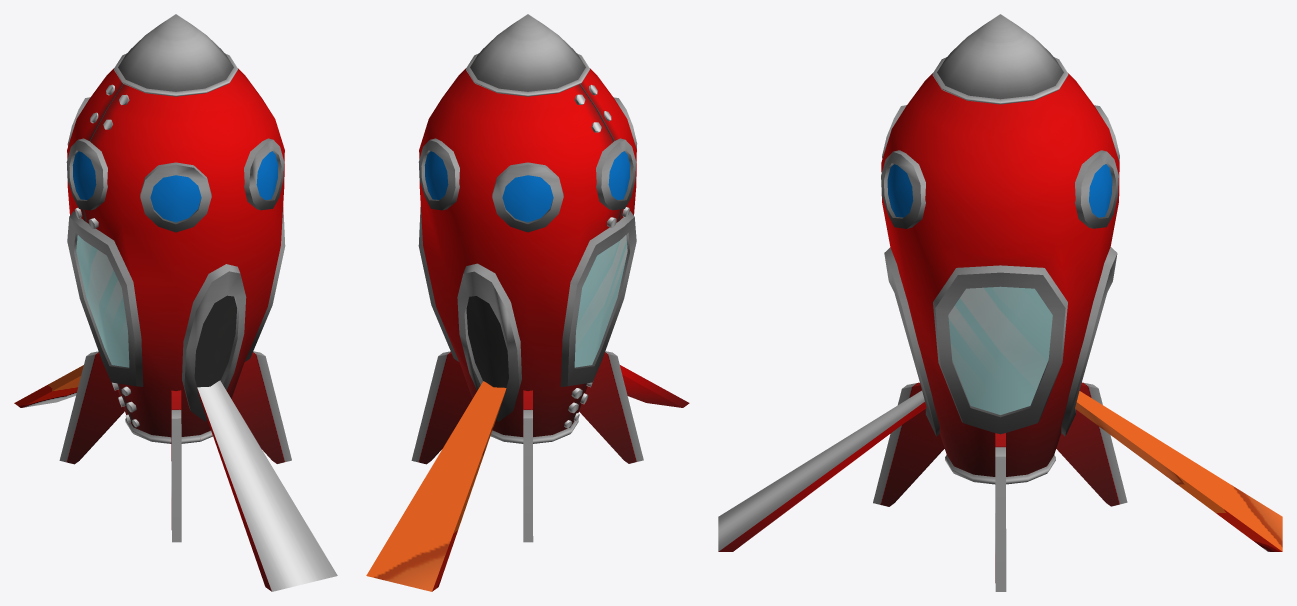
Rendered from RocketPass.FBX.
3 renders of one model, left to right at view 1: azimuth 30°, elevation 25°; view 2: azimuth 150°, elevation 25°; view 3: azimuth 270°, elevation 25°, orthographic. The views are drawn at different scales.
Parts seen in each view (by area): view 1: Rocket, RocketRamp2, Windows, RocketRamp1; view 2: Rocket, RocketRamp1, Windows, RocketRamp2; view 3: Rocket, RocketRamp1, RocketRamp2, Windows.
Boxes of the visible parts, <box> form: Rocket: <box>59,14,291,542</box>; RocketRamp2: <box>197,380,337,591</box>; Windows: <box>72,151,278,222</box>; RocketRamp1: <box>14,365,83,407</box>; Rocket: <box>411,14,643,542</box>; RocketRamp1: <box>366,381,506,591</box>; Windows: <box>424,151,630,222</box>; RocketRamp2: <box>620,365,689,407</box>; Rocket: <box>873,14,1127,591</box>; RocketRamp1: <box>1075,391,1282,551</box>; RocketRamp2: <box>718,390,926,551</box>; Windows: <box>887,164,1112,217</box>.
Bounding box in the file's own units: 2.2 × 4.7 × 4.62.
